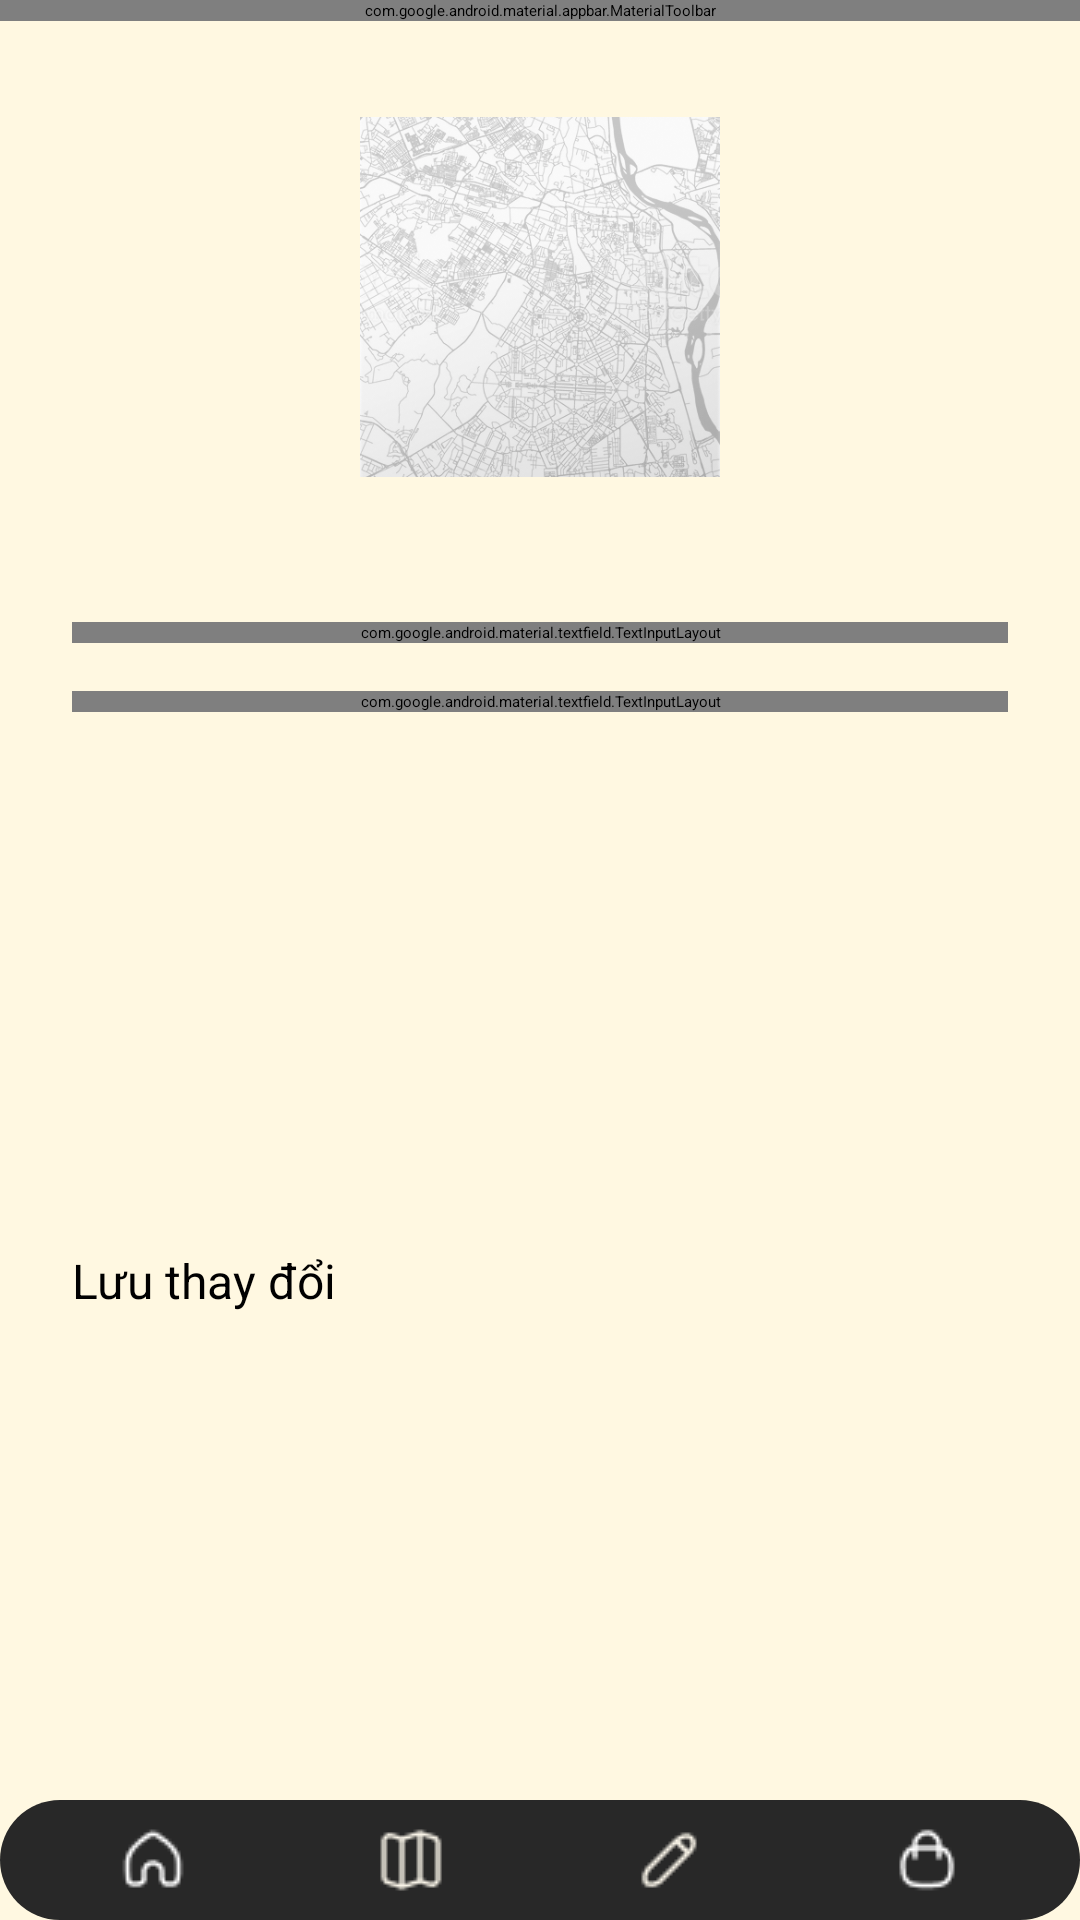

Icon click points for this 1080×1920 phone screenshot, format point (x, y):
Cart: point (927, 1859)
Location: point (411, 1860)
